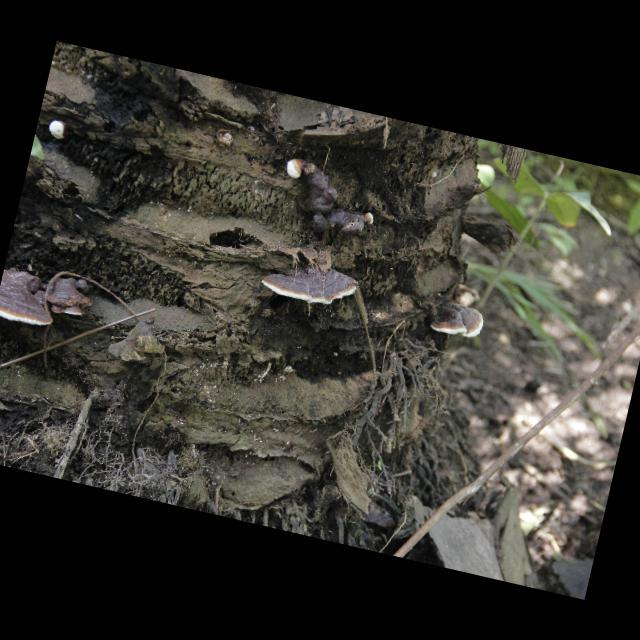ganoderma: (290, 162, 376, 246), (259, 253, 362, 315), (1, 267, 63, 331), (42, 273, 98, 322), (430, 300, 488, 343)
primordium: (284, 157, 306, 182), (47, 119, 72, 141), (361, 212, 376, 227), (339, 123, 345, 131)
